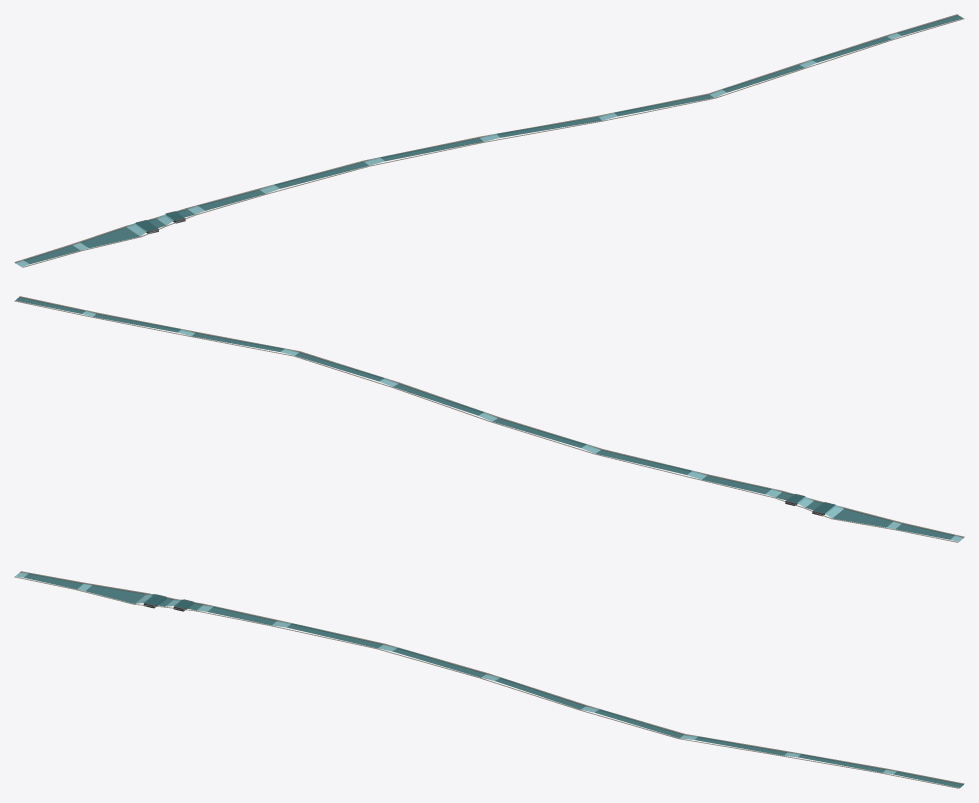
Rendered from water_suoi_cam_ly.glb.
The picture shows the model from 3 angles, top to bottom: view 1: azimuth 30°, elevation 25°; view 2: azimuth 150°, elevation 25°; view 3: azimuth 330°, elevation 25°; orthographic projection.
Parts seen in each view (by area): view 1: water_terraces_suoi_cam_ly, streamside_promenade_cam_ly, waterfall_cascades_thac_cam_ly; view 2: water_terraces_suoi_cam_ly, streamside_promenade_cam_ly, waterfall_cascades_thac_cam_ly; view 3: water_terraces_suoi_cam_ly, streamside_promenade_cam_ly, waterfall_cascades_thac_cam_ly.
Part boxes in pixels (bbox=[...]): water_terraces_suoi_cam_ly: bbox=[23, 15, 962, 264]; streamside_promenade_cam_ly: bbox=[14, 14, 964, 267]; waterfall_cascades_thac_cam_ly: bbox=[15, 33, 901, 266]; water_terraces_suoi_cam_ly: bbox=[15, 297, 954, 539]; streamside_promenade_cam_ly: bbox=[14, 296, 964, 542]; waterfall_cascades_thac_cam_ly: bbox=[82, 311, 963, 541]; water_terraces_suoi_cam_ly: bbox=[24, 573, 963, 787]; streamside_promenade_cam_ly: bbox=[14, 571, 964, 788]; waterfall_cascades_thac_cam_ly: bbox=[15, 572, 896, 774].
Bounding box in the file's own units: 2337 × 35.75 × 122.
